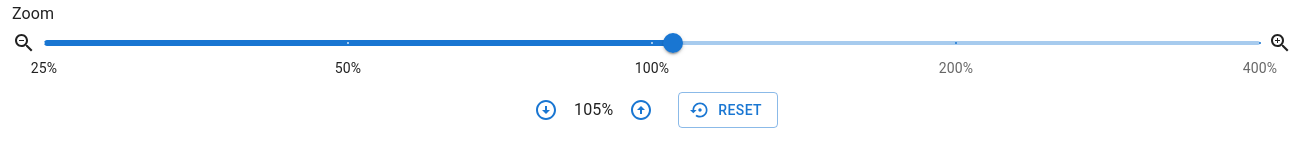
it: ZoomMenuItem › resets zoom to 1 when reset button is clicked
Click the button with aria-label "Zoom reset" at (728,110), box [678,92,778,128]
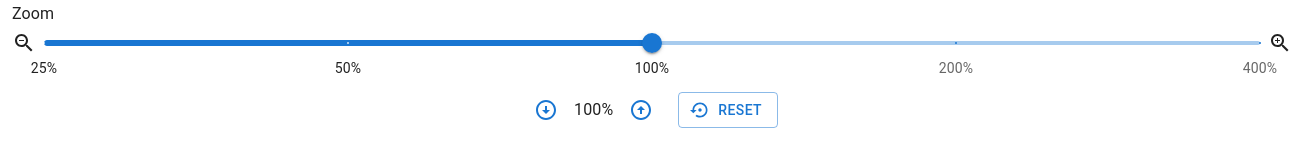
Expected: the text named "Zoom amount" reads "100%", [574,100,613,119]
